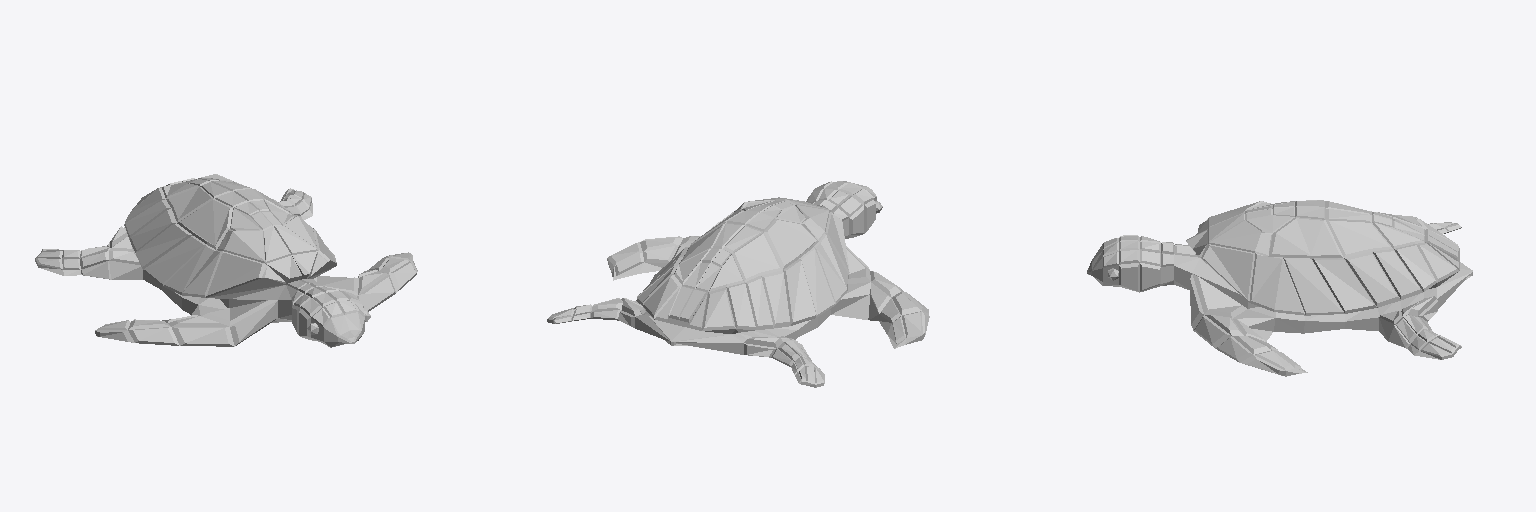
File: turtle.obj
The picture shows the model from 3 angles: view 1: azimuth 30°, elevation 25°; view 2: azimuth 150°, elevation 25°; view 3: azimuth 270°, elevation 25°; orthographic projection.
Parts seen in each view (by area): view 1: Turtle.1; view 2: Turtle.1; view 3: Turtle.1.
Boxes of the visible parts, <box> form: Turtle.1: <box>35,174,417,347</box>; Turtle.1: <box>547,181,929,387</box>; Turtle.1: <box>1087,200,1472,376</box>.
Size of the model in its own units: 676 by 204 by 718.